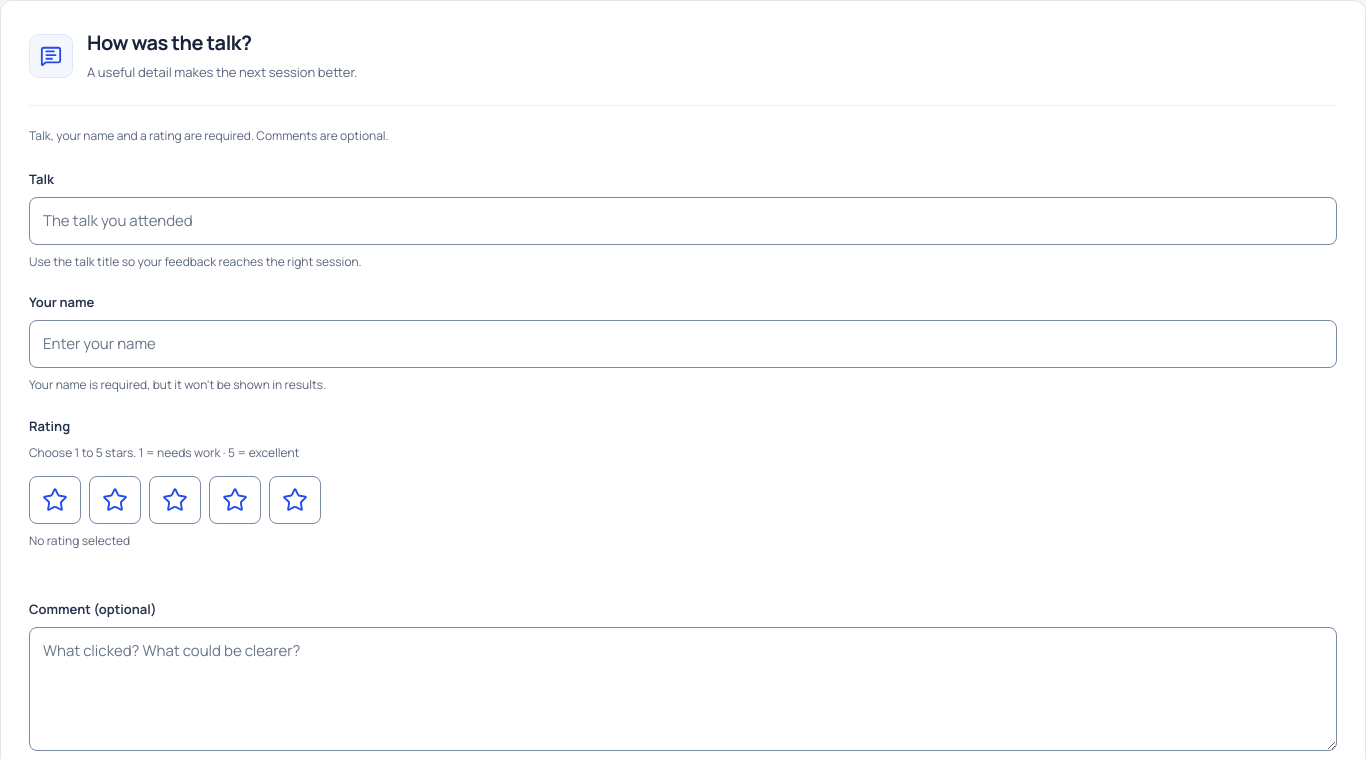
Test case: sends normalized numeric input, confirms only persisted 201 and resets
In the field labelled "Talk": (683, 221) [29,197,1337,245], type "  Engineering bots  "
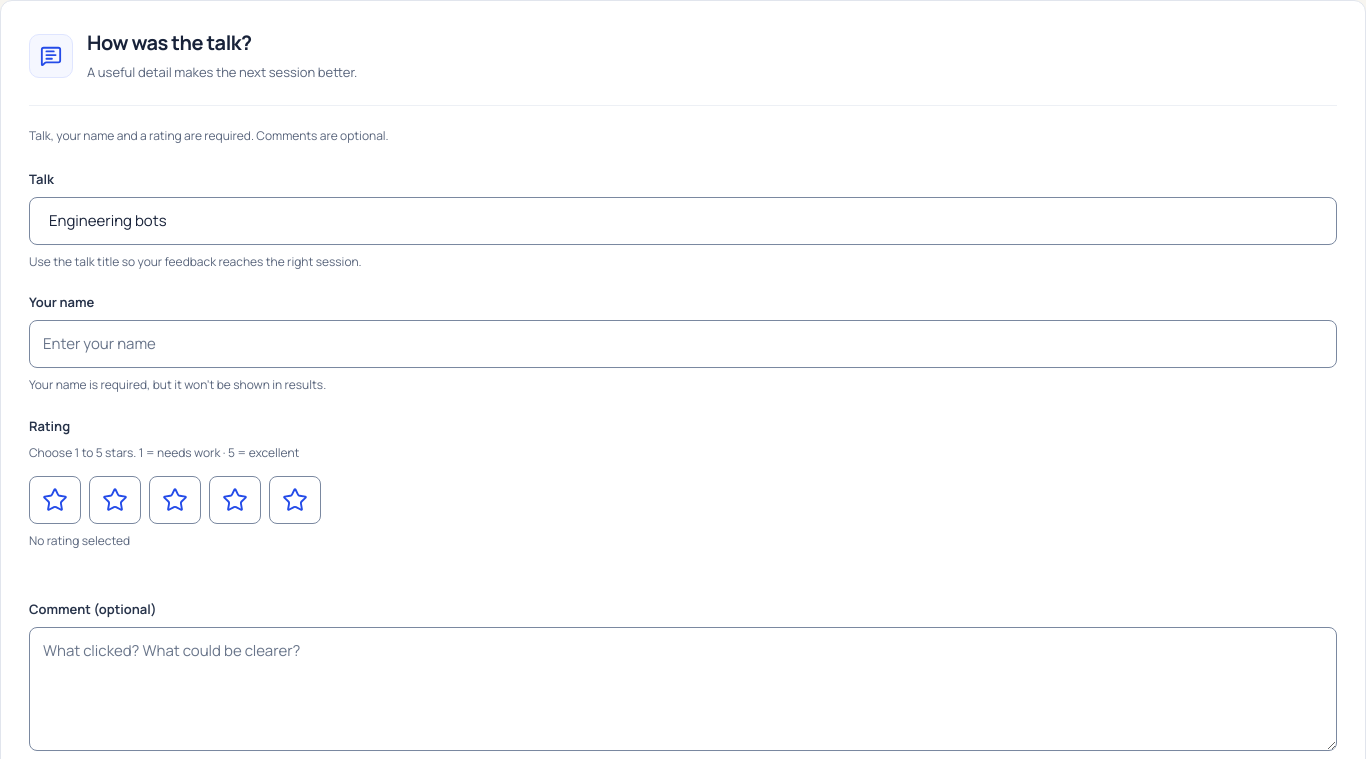
In the field labelled "Your name": (683, 344) [29,320,1337,368], type "  Ana  "
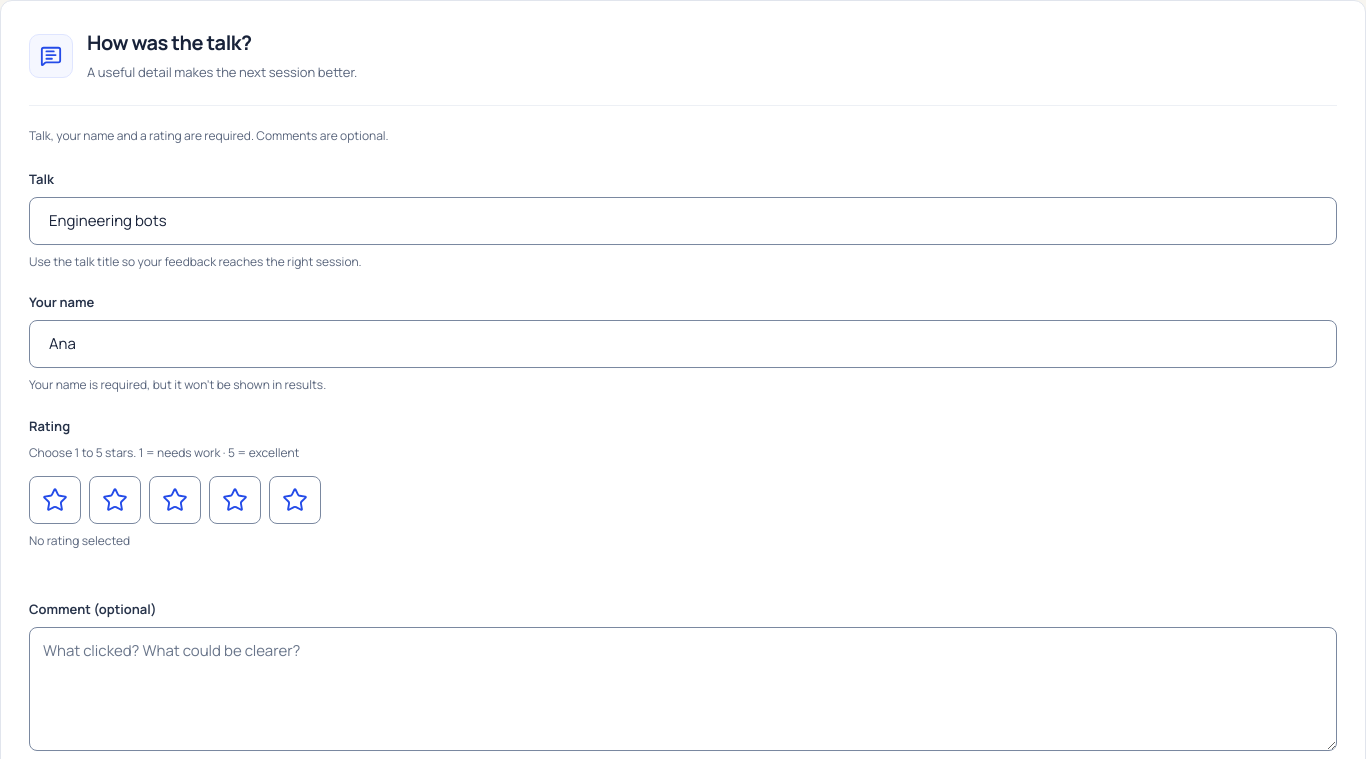
In the text box labelled "Comment (optional)": (683, 689) [29,627,1337,751], type "  Useful workshop  "
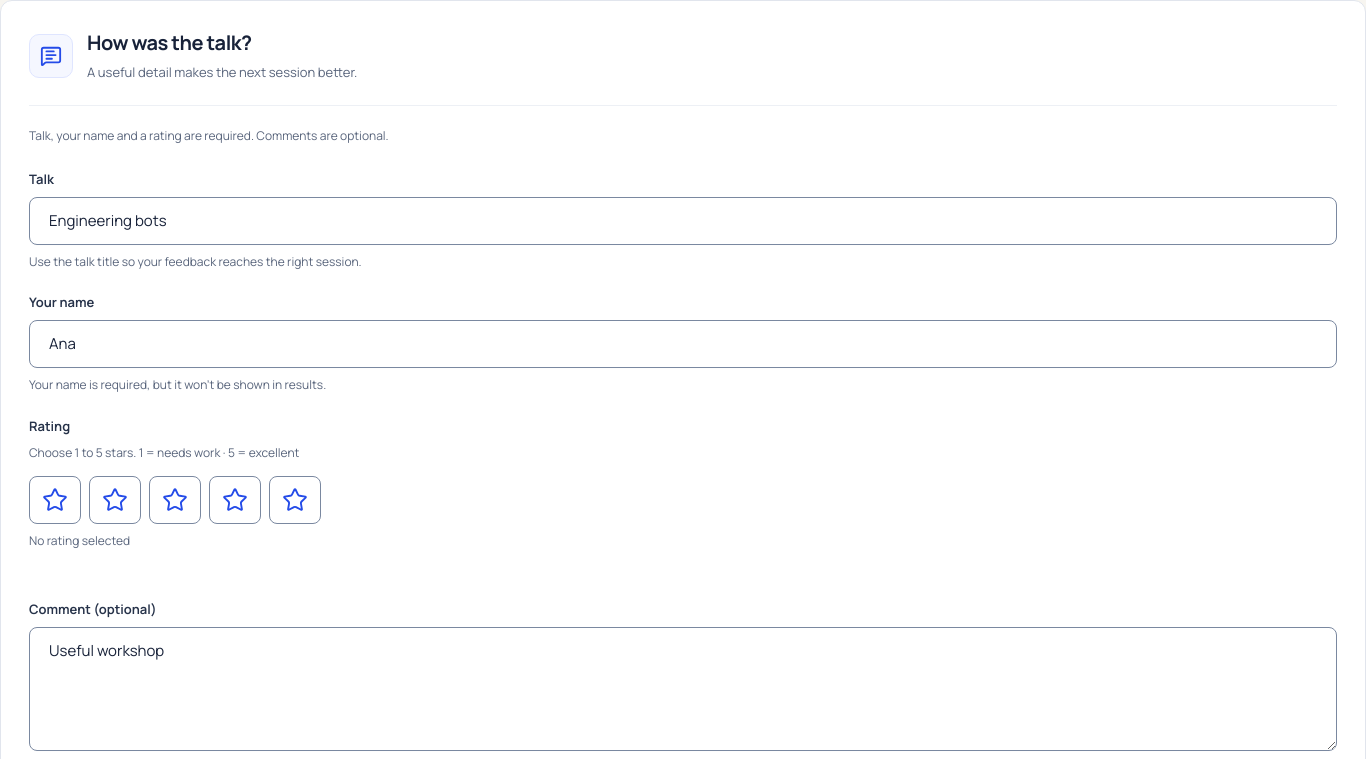
Click the radio button named "5 stars": click(295, 500) [269,476,321,524]
(page scrolled)
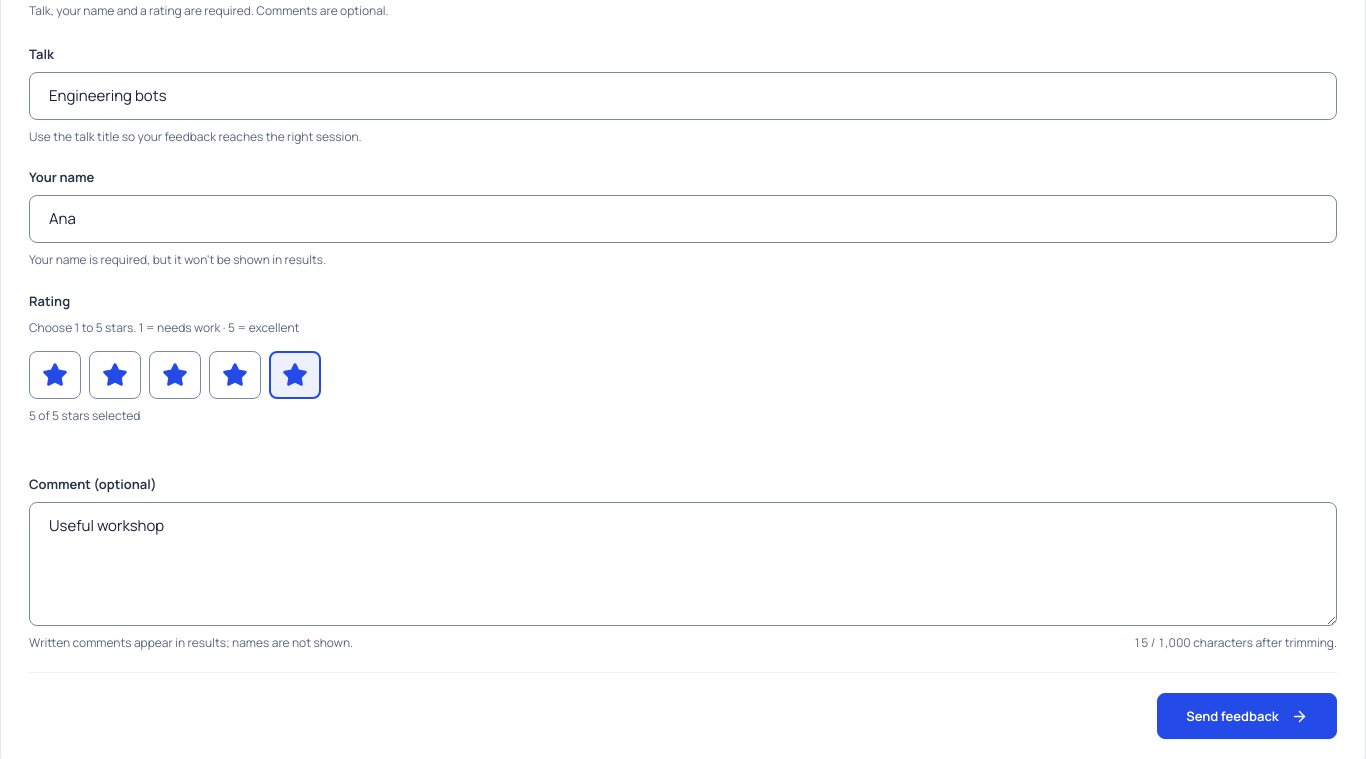
Click the button "Send feedback": click(1247, 716) [1157,693,1337,739]
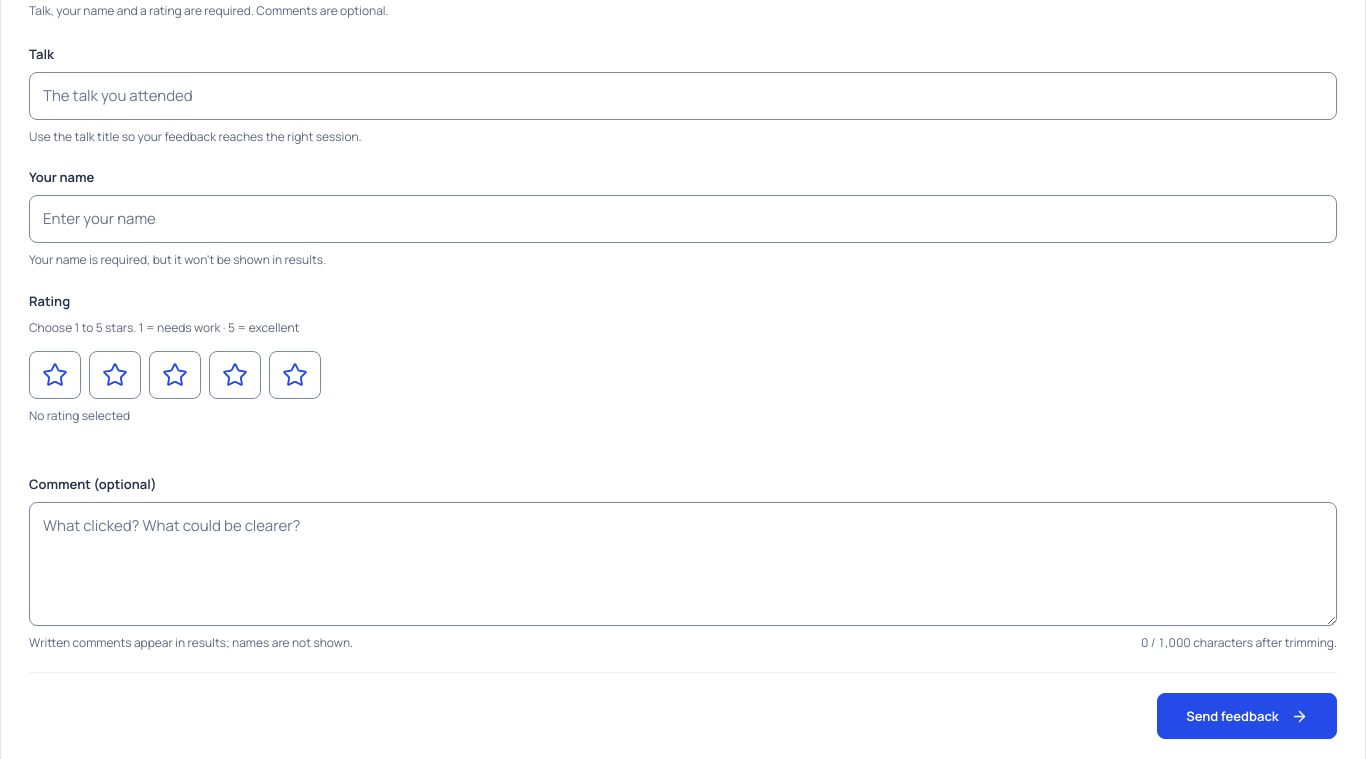
expect the field labelled "Talk" is empty: met, box [29,72,1337,120]
